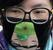with_mask: (2, 1, 53, 50)
